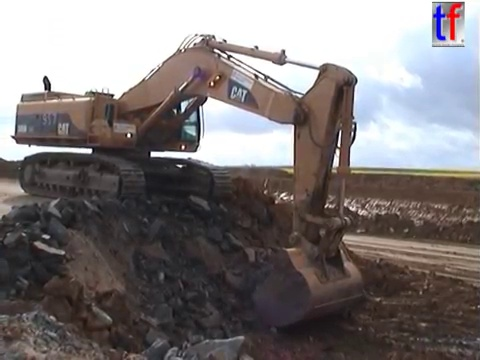excavator: (7, 31, 369, 329)
